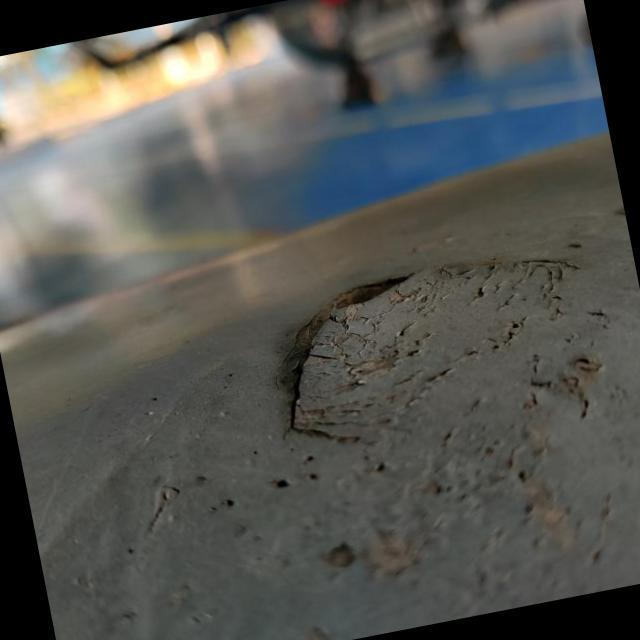Rupture: (226, 215, 618, 479)
